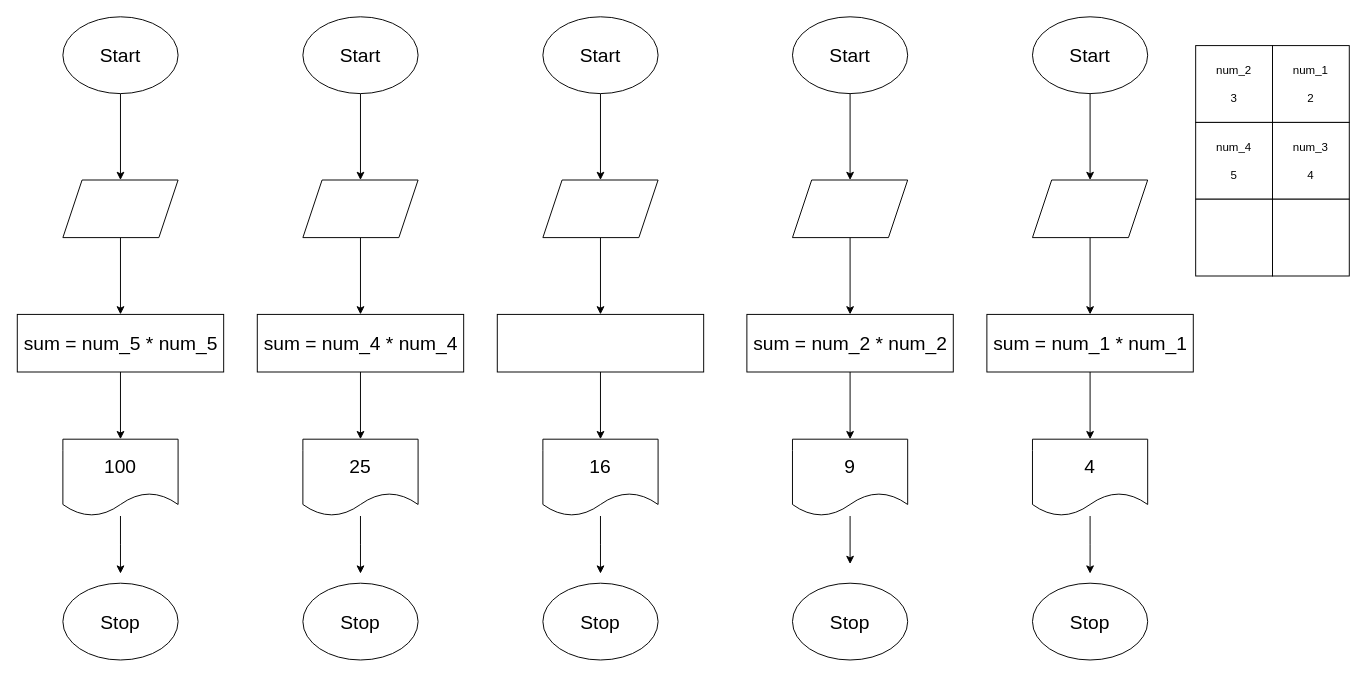
The diagram is 1366 pixels wide and 677 high, and some of its shapes have lost their labels. The centre of each missing label's shape, as x and y in pixels:
"num_1" goes at (x=1090, y=208).
"num_2" goes at (x=850, y=208).
"num_3" goes at (x=600, y=208).
"num_4" goes at (x=360, y=208).
"num_5" goes at (x=120, y=208).
"num_5 10" goes at (x=1310, y=237).
"sum = num_3 * num_3" goes at (x=600, y=342).
